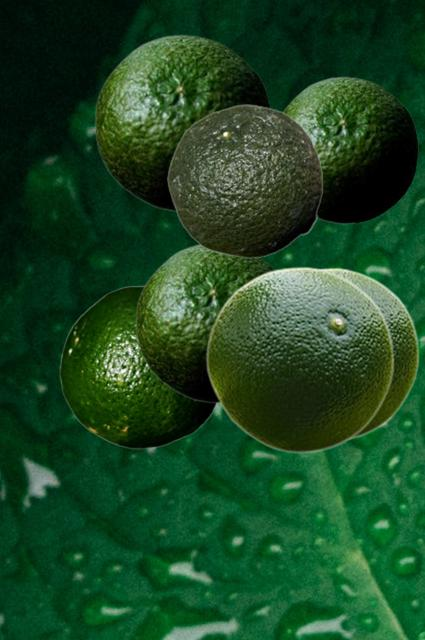calamansi: (205, 266, 394, 452), (94, 34, 270, 211), (59, 285, 217, 448), (167, 104, 322, 257), (135, 244, 276, 402), (282, 76, 417, 223), (321, 267, 419, 440)
